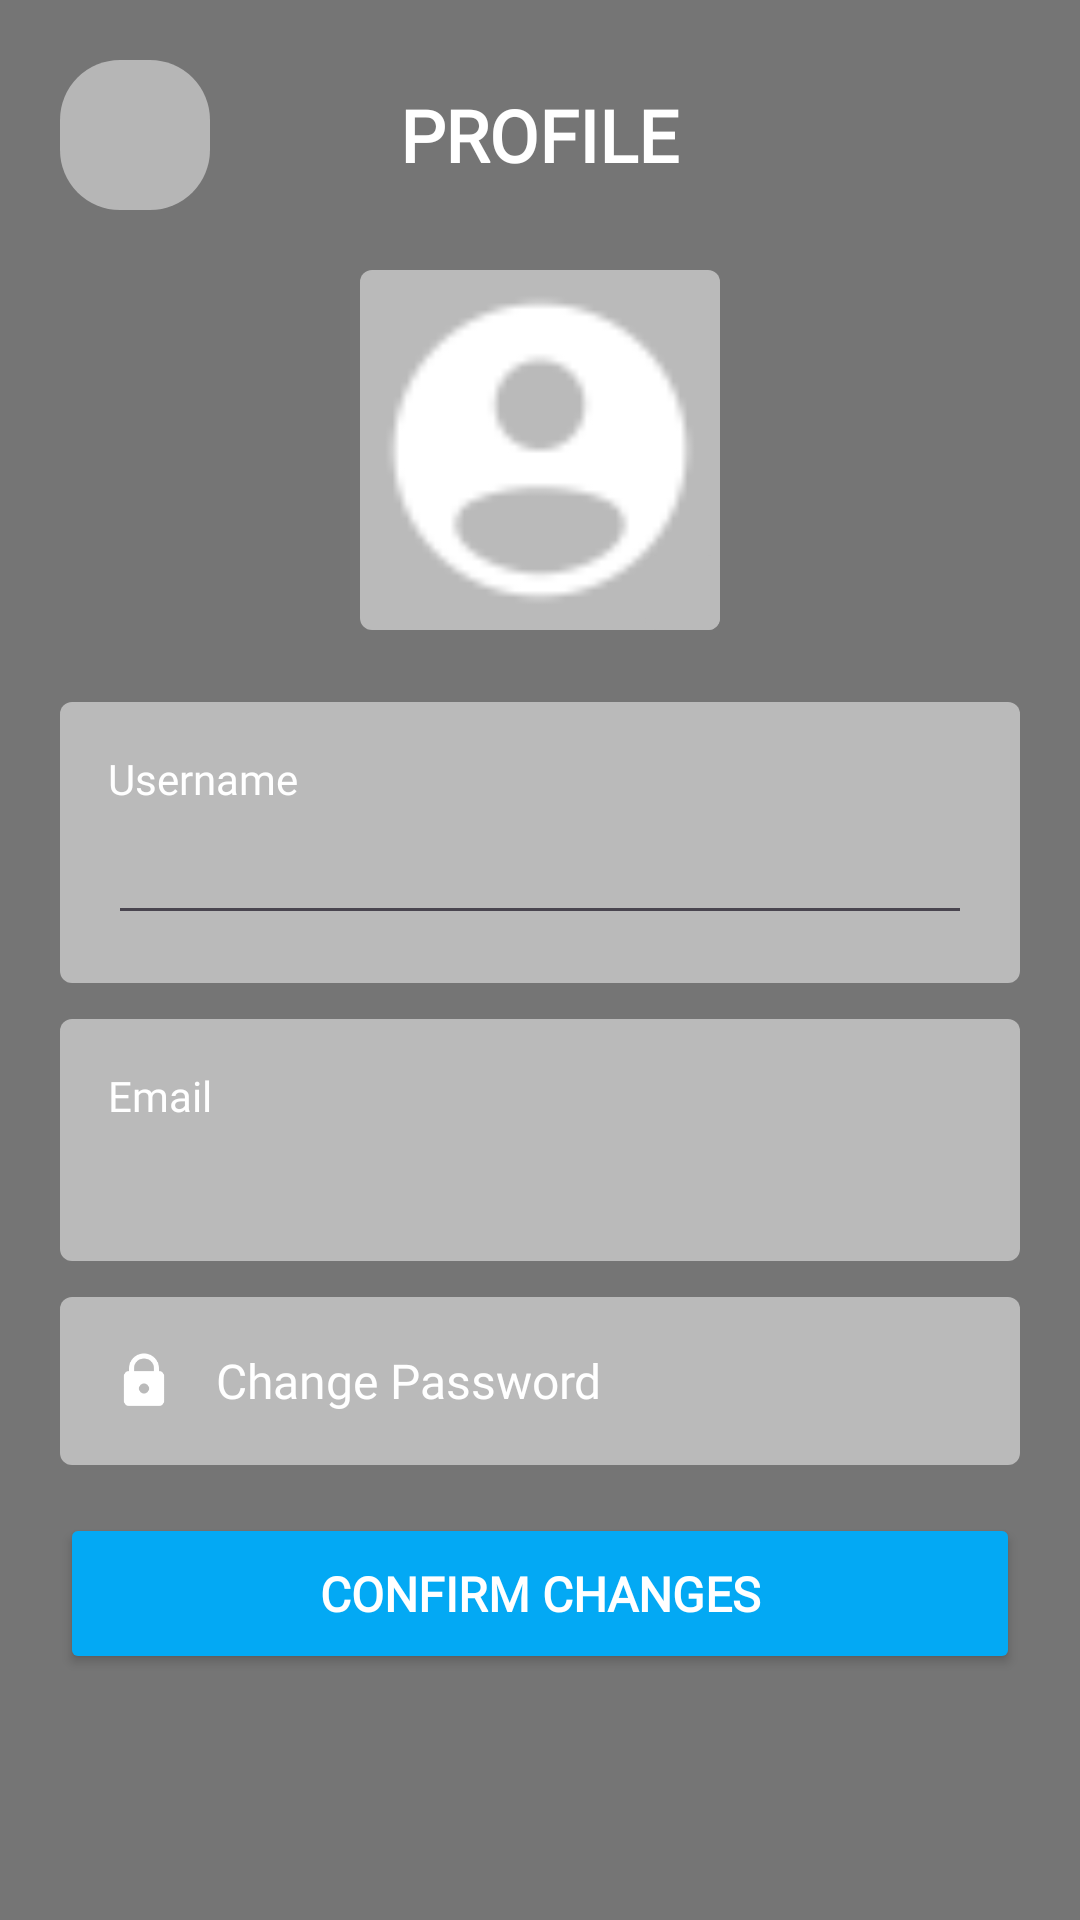

Screen size 1080×1920. Icon name, then its box in pixels as [left=x1, top=y1, right=x2, bottom=y2]:
lock: [left=124, top=1353, right=164, bottom=1406]
